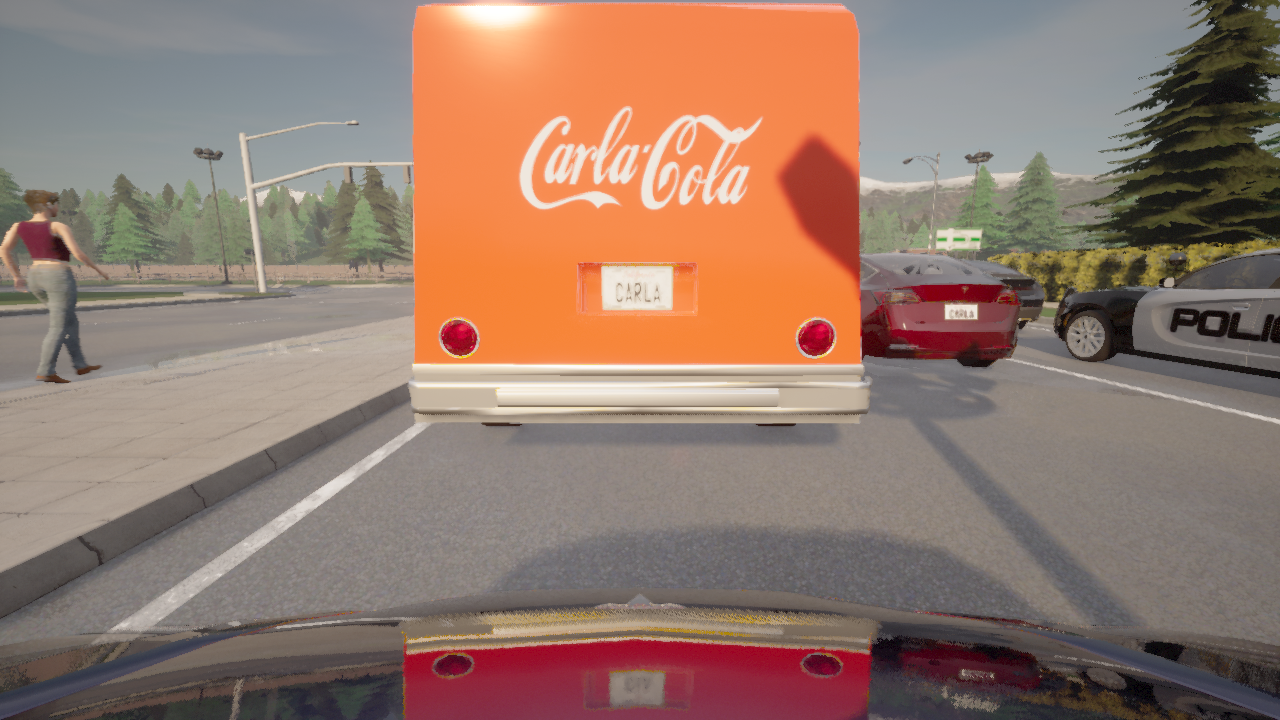cyclist: (408, 3, 871, 426), (0, 588, 1279, 719), (1054, 248, 1279, 378), (860, 253, 1022, 367), (960, 259, 1044, 330)
pedestrian: (0, 188, 109, 383)
